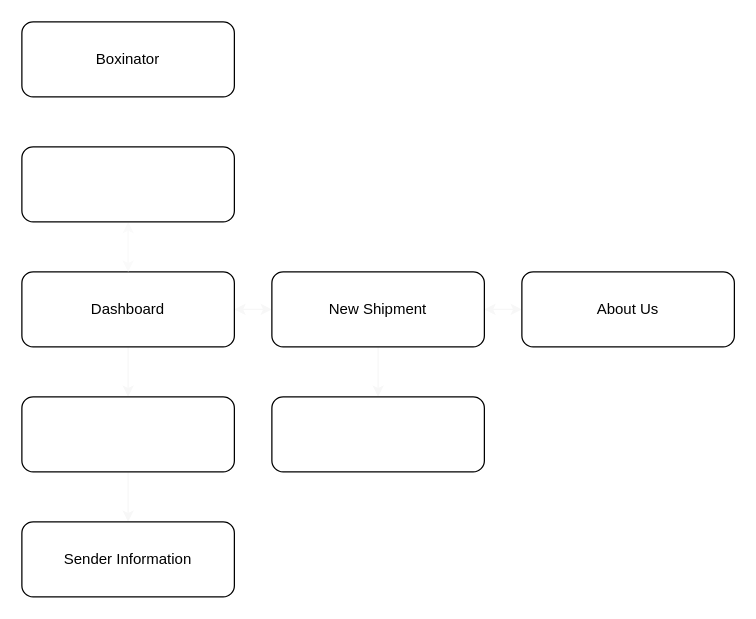
Some shapes in this 756 by 619 pixel diagram are drawn without their labels. Here are the shapes that lost their labels. From the top down, the centre of each, then its label:
At [127,184]: "Login / Signup".
At [127,434]: "Order Table".
At [377,434]: "New Order".
